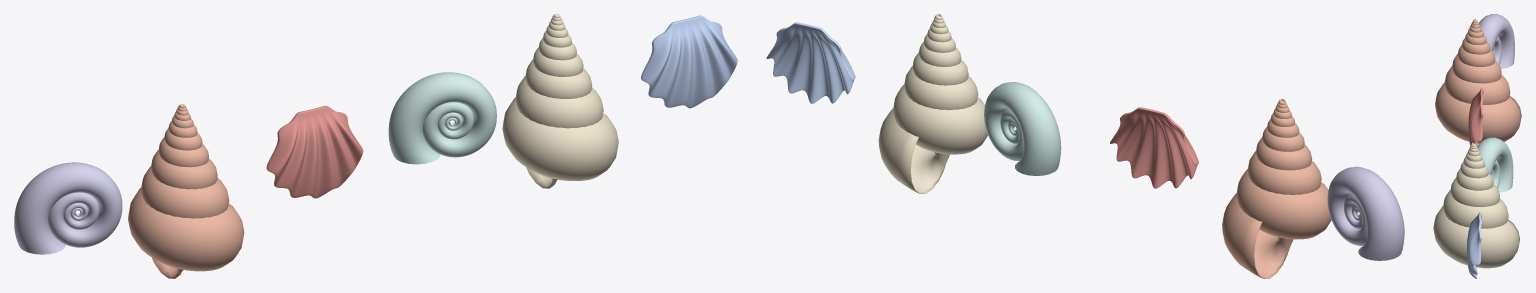
Rendered from Shells_painted.fbx.
3 views of the same model, side by side, from view 1: azimuth 30°, elevation 25°; view 2: azimuth 150°, elevation 25°; view 3: azimuth 270°, elevation 25° (orthographic). The views are drawn at different scales.
Parts seen in each view (by area): view 1: Shell_2, Shell_2.001, Shell_1.001, Shell_1, Shell_3.001, Shell_3; view 2: Shell_2, Shell_2.001, Shell_1, Shell_1.001, Shell_3.001, Shell_3; view 3: Shell_2.001, Shell_2, Shell_1.001, Shell_1, Shell_3.001, Shell_3.
Part boxes in pixels (<box>): Shell_2: <box>128,104,244,278</box>; Shell_2.001: <box>502,14,618,188</box>; Shell_1.001: <box>388,72,496,164</box>; Shell_1: <box>14,162,122,254</box>; Shell_3.001: <box>641,15,737,108</box>; Shell_3: <box>266,105,363,198</box>; Shell_2: <box>1222,99,1331,278</box>; Shell_2.001: <box>878,14,987,193</box>; Shell_1: <box>1327,166,1404,260</box>; Shell_1.001: <box>984,82,1061,175</box>; Shell_3.001: <box>766,22,855,103</box>; Shell_3: <box>1110,107,1198,188</box>; Shell_2.001: <box>1433,142,1519,268</box>; Shell_2: <box>1435,19,1521,143</box>; Shell_1.001: <box>1477,137,1513,192</box>; Shell_1: <box>1479,14,1514,68</box>; Shell_3.001: <box>1467,212,1481,278</box>; Shell_3: <box>1468,88,1483,146</box>.
Bounding box in the file's own units: 219 × 53.85 × 35.16.
